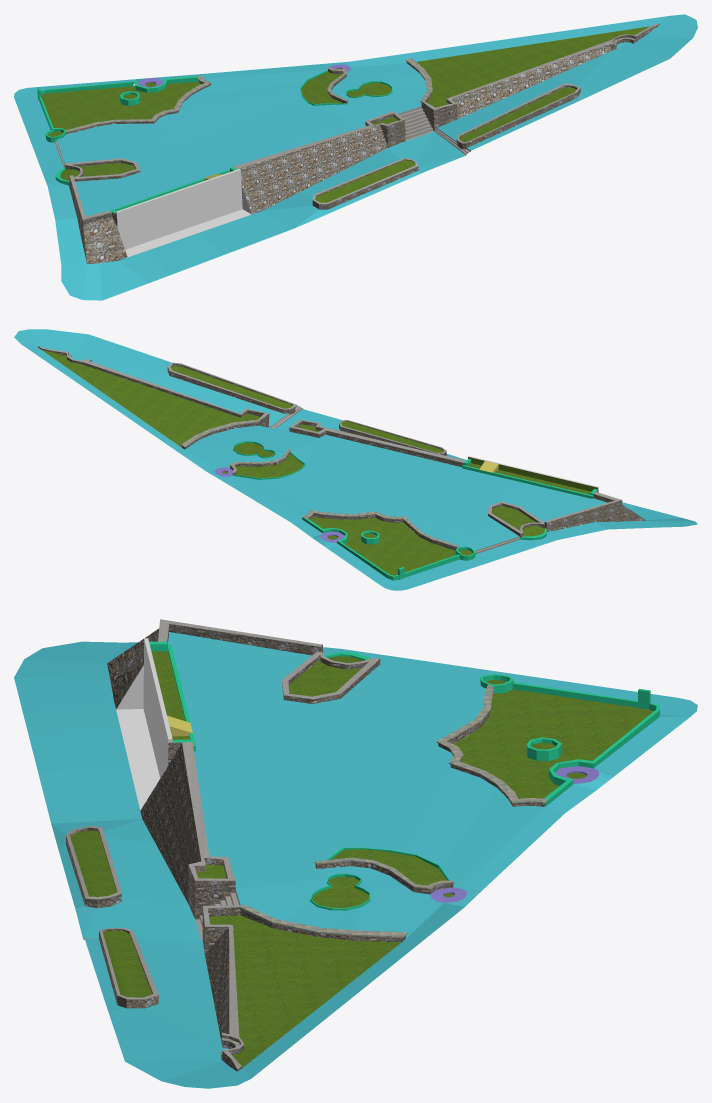
File: PracaPioneiros.fbx
The picture shows the model from 3 angles, top to bottom: view 1: azimuth 30°, elevation 25°; view 2: azimuth 150°, elevation 25°; view 3: azimuth 270°, elevation 25°; orthographic projection. The views are drawn at different scales.
Visible parts, largest first — view 1: Praca-PisoConcreto, Praca-MuroPedra, Praca-Grama, Praca-Monumento, Praca-Cimento, Praca-CimentoVerde, Praca-BancoConcreto; view 2: Praca-PisoConcreto, Praca-Grama, Praca-MuroPedra, Praca-Cimento, Praca-CimentoVerde, Praca-BancoConcreto; view 3: Praca-PisoConcreto, Praca-Grama, Praca-MuroPedra, Praca-Cimento, Praca-CimentoVerde, Praca-Monumento, Praca-BancoConcreto, Praca-RodaPedra.
Part boxes in pixels (bbox=[...]): Praca-PisoConcreto: bbox=[14, 14, 697, 300]; Praca-MuroPedra: bbox=[64, 24, 659, 264]; Praca-Grama: bbox=[41, 26, 649, 202]; Praca-Monumento: bbox=[115, 169, 251, 257]; Praca-Cimento: bbox=[55, 24, 658, 219]; Praca-CimentoVerde: bbox=[37, 70, 392, 213]; Praca-BancoConcreto: bbox=[65, 37, 635, 132]; Praca-PisoConcreto: bbox=[14, 329, 697, 590]; Praca-Grama: bbox=[42, 350, 597, 575]; Praca-MuroPedra: bbox=[38, 346, 645, 550]; Praca-Cimento: bbox=[38, 346, 621, 553]; Praca-CimentoVerde: bbox=[232, 441, 597, 580]; Praca-BancoConcreto: bbox=[68, 354, 460, 547]; Praca-PisoConcreto: bbox=[14, 632, 697, 1088]; Praca-Grama: bbox=[70, 651, 653, 1067]; Praca-MuroPedra: bbox=[66, 624, 545, 1071]; Praca-Cimento: bbox=[66, 619, 379, 1069]; Praca-CimentoVerde: bbox=[149, 641, 659, 910]; Praca-Monumento: bbox=[116, 638, 172, 810]; Praca-BancoConcreto: bbox=[220, 684, 548, 1054]; Praca-RodaPedra: bbox=[430, 766, 599, 902].
Size of the model in its own units: 8551 by 986 by 4314.
